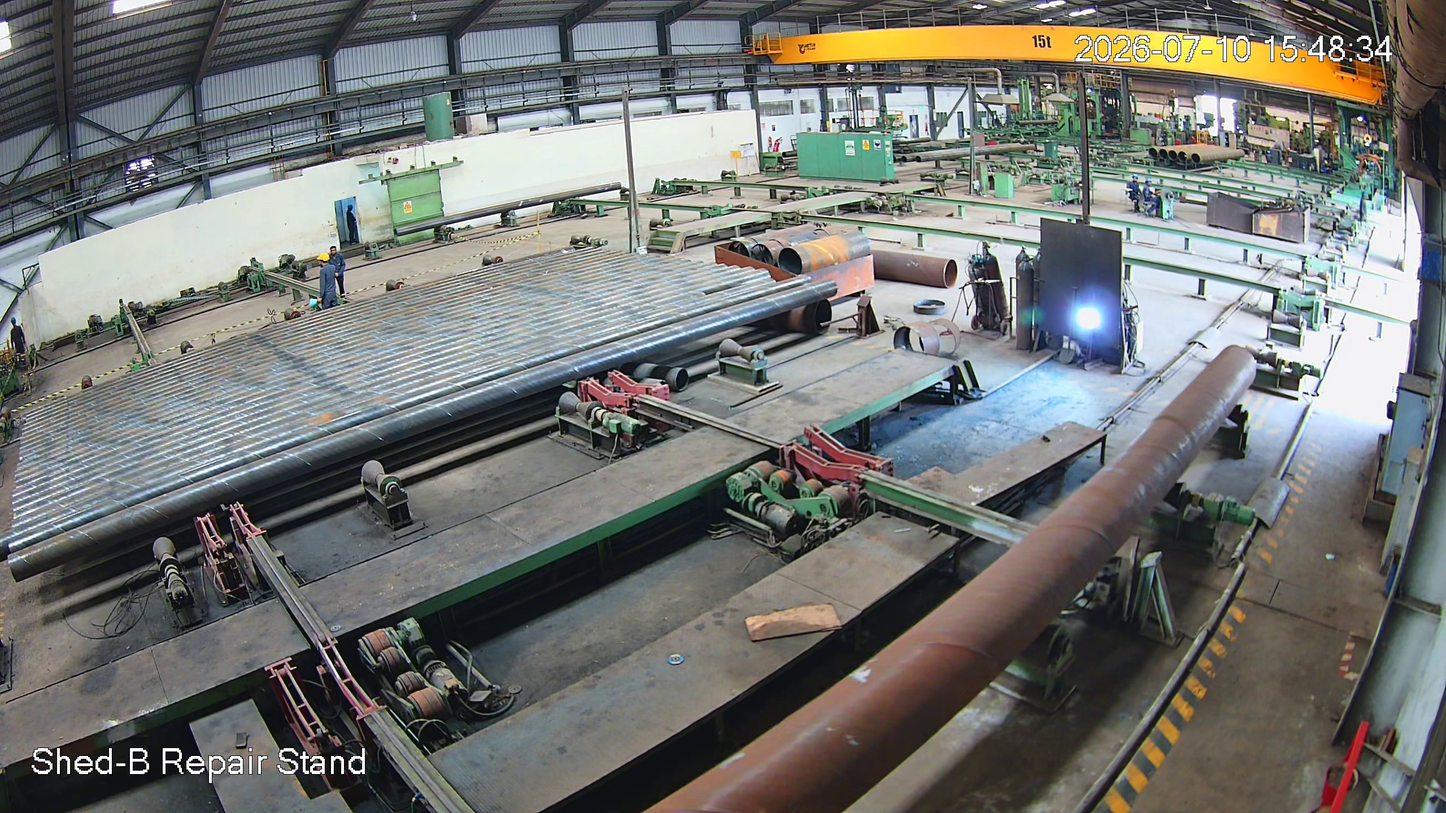Helmet: (316, 253, 335, 273)
Person: (315, 254, 338, 308)
